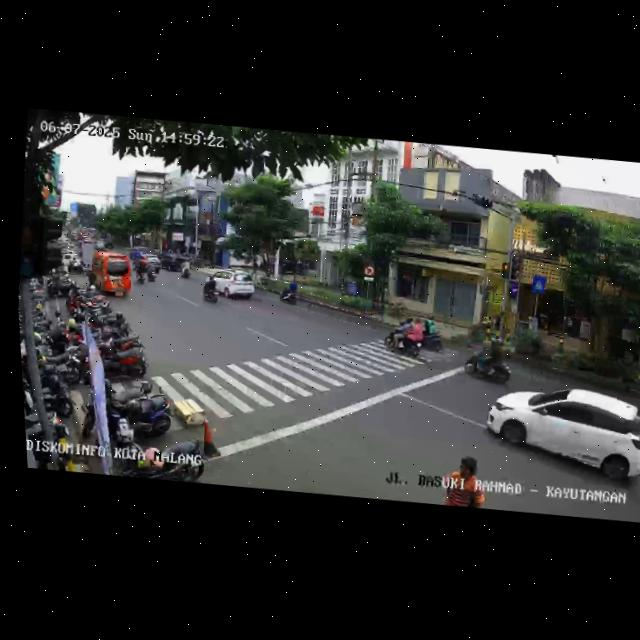car: (478, 375, 640, 493), (83, 247, 135, 300), (203, 265, 259, 301), (158, 250, 187, 274)
motorcycle: (459, 333, 518, 388), (383, 311, 430, 362), (416, 316, 447, 355), (200, 273, 224, 304), (280, 278, 300, 306), (145, 260, 159, 285), (178, 257, 193, 280), (133, 260, 146, 284)
person: (440, 452, 490, 509)
